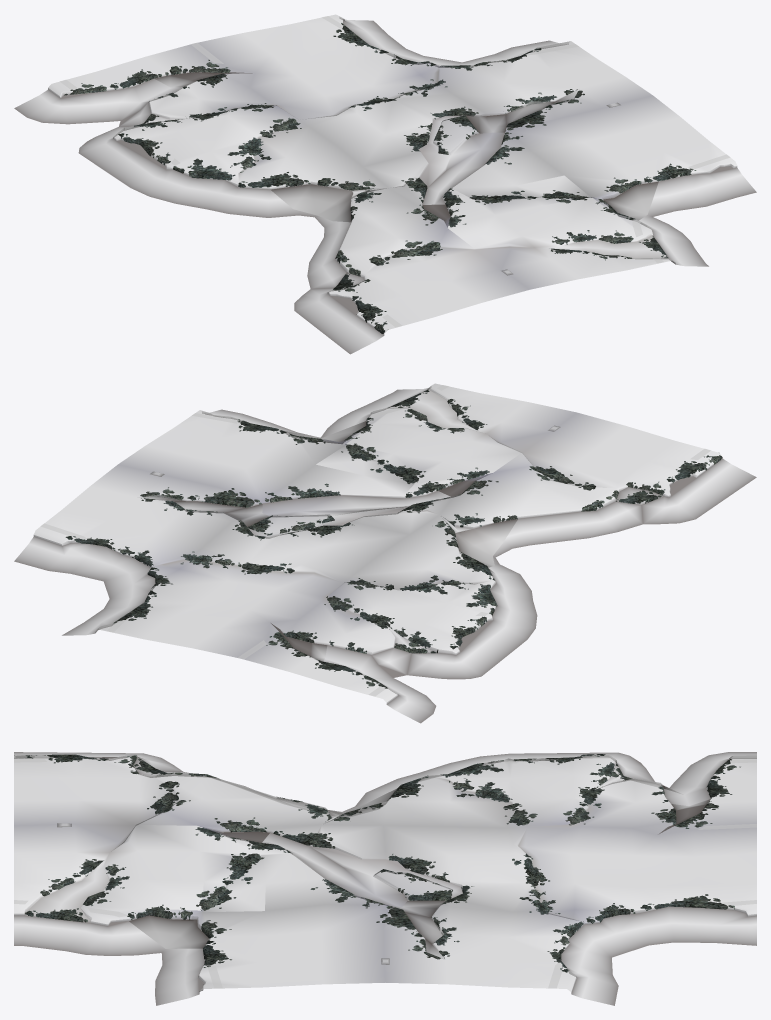
The model's file is Road3WayRB.FBX.
3 views of the same model, one above another, from view 1: azimuth 30°, elevation 25°; view 2: azimuth 150°, elevation 25°; view 3: azimuth 270°, elevation 25° (orthographic). The views are drawn at different scales.
Parts seen in each view (by area): view 1: WastelandRoad3WayRB:0, PittedDecal; view 2: WastelandRoad3WayRB:0, PittedDecal; view 3: WastelandRoad3WayRB:0, PittedDecal.
Part boxes in pixels (box(x1,y1,x2,y2)): WastelandRoad3WayRB:0: box(14, 14, 756, 354); PittedDecal: box(64, 23, 696, 333); WastelandRoad3WayRB:0: box(14, 383, 756, 723); PittedDecal: box(65, 390, 722, 688); WastelandRoad3WayRB:0: box(14, 752, 756, 1005); PittedDecal: box(14, 754, 740, 972).
Size of what is drawn, in the model's own units: 8.28 by 0.4156 by 10.24.
